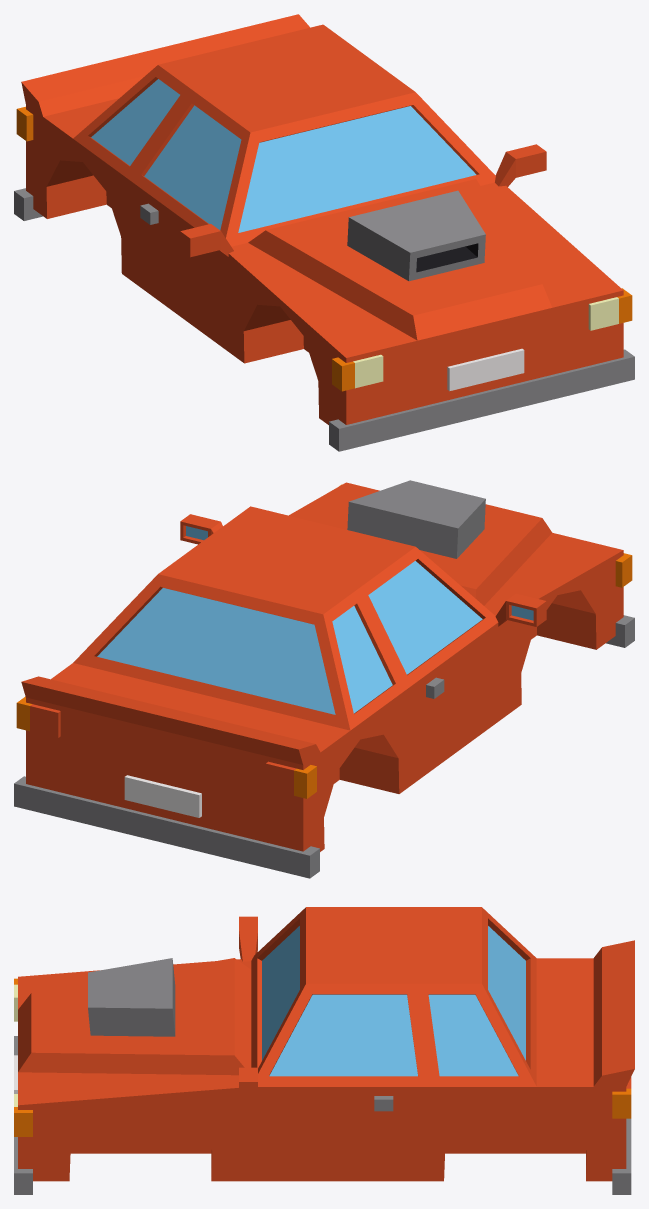
File: roadster.fbx
The picture shows the model from 3 angles, top to bottom: view 1: azimuth 30°, elevation 25°; view 2: azimuth 150°, elevation 25°; view 3: azimuth 270°, elevation 25°; orthographic projection. The views are drawn at different scales.
Parts seen in each view (by area): view 1: Roadster; view 2: Roadster; view 3: Roadster.
Part boxes in pixels (box(x1,y1,x2,y2)): Roadster: box(14, 14, 634, 451); Roadster: box(14, 480, 634, 878); Roadster: box(14, 907, 634, 1194).
Bounding box in the file's own units: 257 × 131 × 408.
